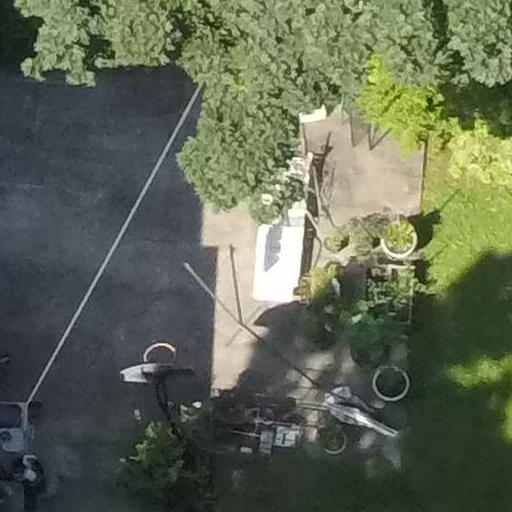basketball: (108, 331, 234, 501)
container: (379, 217, 422, 263), (370, 363, 418, 404)
flower bed: (359, 258, 424, 325)
flower pot: (379, 208, 422, 263), (366, 359, 414, 407), (314, 422, 353, 459)
